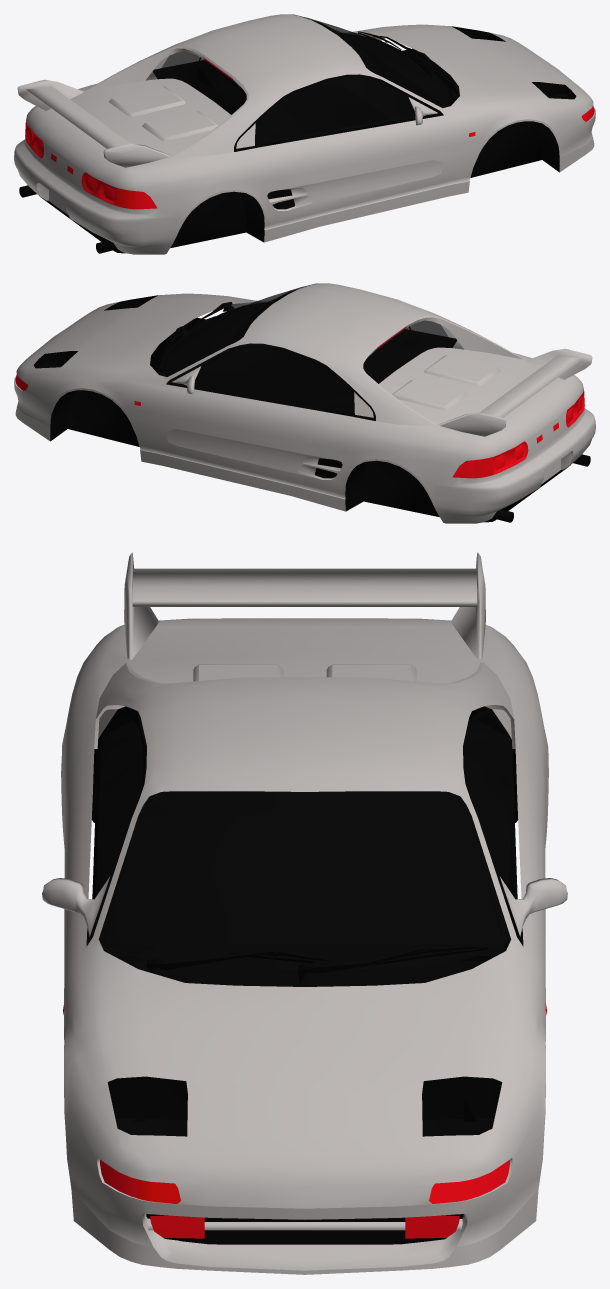
The picture shows the model from 3 angles, top to bottom: view 1: azimuth 30°, elevation 25°; view 2: azimuth 150°, elevation 25°; view 3: azimuth 270°, elevation 25°; orthographic projection. The views are drawn at different scales.
Visible parts, largest first — view 1: 00000000.xmdl; view 2: 00000000.xmdl; view 3: 00000000.xmdl.
Part boxes in pixels (bbox=[...]): 00000000.xmdl: bbox=[14, 14, 595, 254]; 00000000.xmdl: bbox=[14, 283, 595, 523]; 00000000.xmdl: bbox=[42, 552, 567, 1274].
Size of the model in its own units: 4.17 by 1.11 by 1.85.
